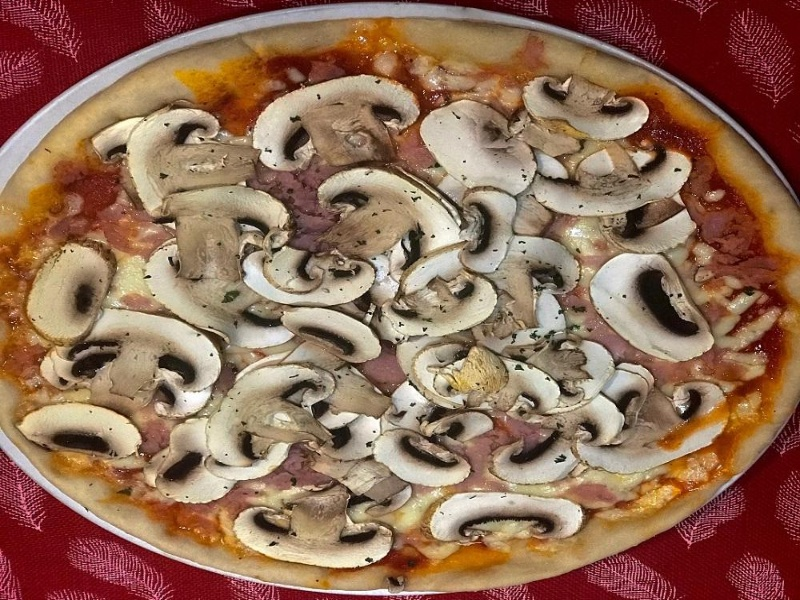champignon: (250, 69, 419, 172), (126, 99, 268, 221), (57, 309, 224, 410), (145, 182, 299, 289), (588, 253, 728, 366), (577, 379, 735, 478), (206, 361, 341, 476), (534, 132, 707, 219), (313, 163, 465, 262), (224, 494, 404, 576), (417, 92, 549, 201), (23, 235, 119, 348), (425, 490, 590, 553), (518, 66, 653, 143), (9, 401, 152, 470), (267, 297, 386, 377), (368, 426, 477, 490)
